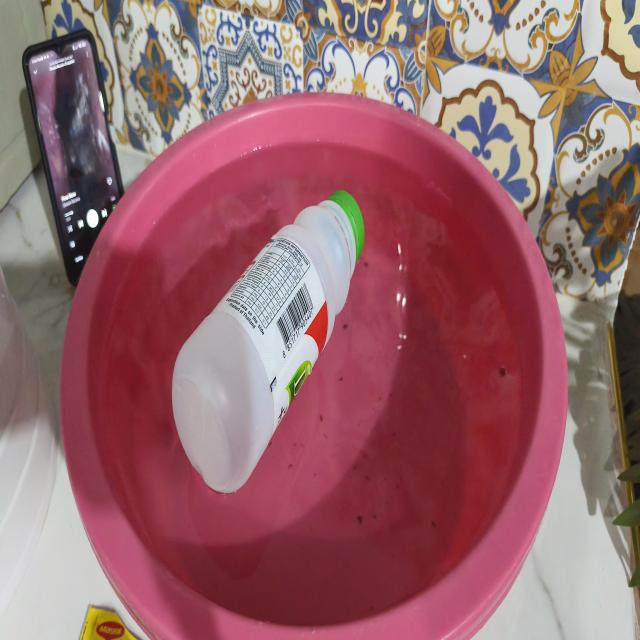Plastic Bottle: (172, 191, 365, 493)
